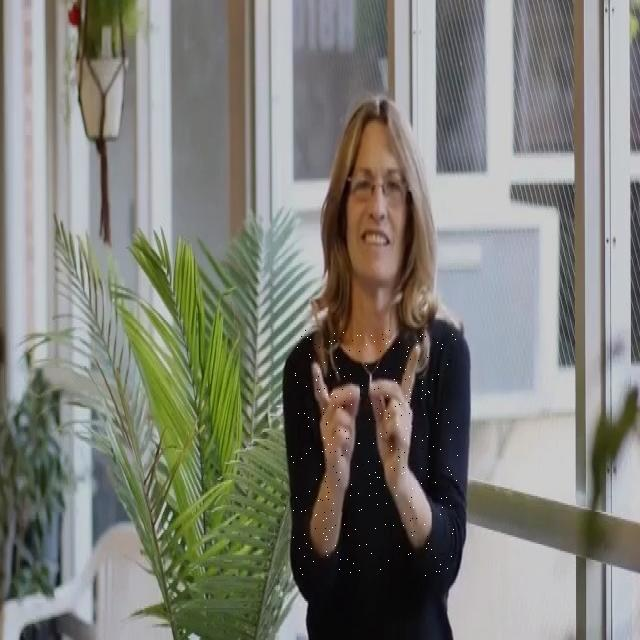sweet: (290, 330, 458, 577)
